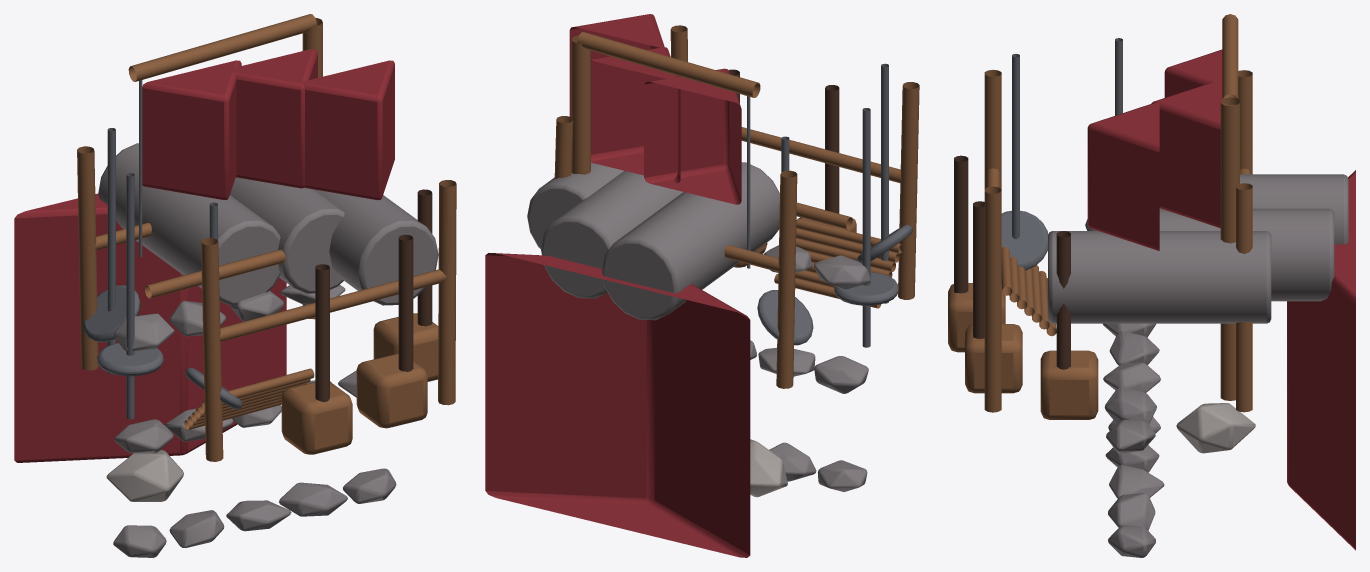
Rendered from builders_yard.glb.
3 views of the same model, side by side, from view 1: azimuth 30°, elevation 25°; view 2: azimuth 150°, elevation 25°; view 3: azimuth 270°, elevation 25° (orthographic). The views are drawn at different scales.
Visible parts, largest first — view 1: WorkshopCanopy, L8TurretRoof, L10TurretRoof, L8Turret, L9TurretRoof, L10Turret, L9Turret, L3SupplyCrate, L4SupplyCrate, ScaffoldPost.001, ScaffoldPost.003, ScaffoldPost (+29 smaller); view 2: WorkshopCanopy, L8Turret, L8TurretRoof, L9Turret, L9TurretRoof, ScaffoldPost, ScaffoldPost.001, CraneArm, L10Turret, CraneMast, L10TurretRoof, ScaffoldRail.002 (+20 smaller); view 3: L10Turret, WorkshopCanopy, L10TurretRoof, L9TurretRoof, L9Turret, L8Turret, ScaffoldPost.003, CraneMast, L2SupplyCrate, CraneLoad, ScaffoldPost.002, L3SupplyCrate (+20 smaller).
Boxes of the visible parts, x1,y1,x2,y2 form: WorkshopCanopy: (14,193,286,462); L8TurretRoof: (142,60,241,199); L10TurretRoof: (301,60,394,200); L8Turret: (98,143,280,305); L9TurretRoof: (225,49,317,188); L10Turret: (313,189,438,305); L9Turret: (230,177,344,293); L3SupplyCrate: (356,354,427,428); L4SupplyCrate: (281,382,352,454); ScaffoldPost.001: (201,238,223,461); ScaffoldPost.003: (438,180,456,405); ScaffoldPost: (77,146,98,370); WorkshopCanopy: (485,253,750,557); L8Turret: (601,162,779,320); L8TurretRoof: (644,68,741,204); L9Turret: (541,171,683,298); L9TurretRoof: (591,47,680,182); ScaffoldPost: (776,170,797,388); ScaffoldPost.001: (898,82,919,299); CraneArm: (577,32,760,97); L10Turret: (527,162,623,248); CraneMast: (571,35,590,174); L10TurretRoof: (569,14,664,116); ScaffoldRail.002: (741,127,901,182); L10Turret: (1048,231,1271,323); WorkshopCanopy: (1287,170,1355,550); L10TurretRoof: (1087,102,1159,250); L9TurretRoof: (1151,79,1222,228); L9Turret: (1159,208,1334,301); L8Turret: (1160,174,1348,244); ScaffoldPost.003: (984,186,1001,412); CraneMast: (1220,97,1239,400); L2SupplyCrate: (1040,350,1098,419); CraneLoad: (1176,403,1255,453); ScaffoldPost.002: (1236,183,1252,412); L3SupplyCrate: (965,324,1022,393).
Size of the model in its own units: 3.92 by 5.41 by 4.38.
